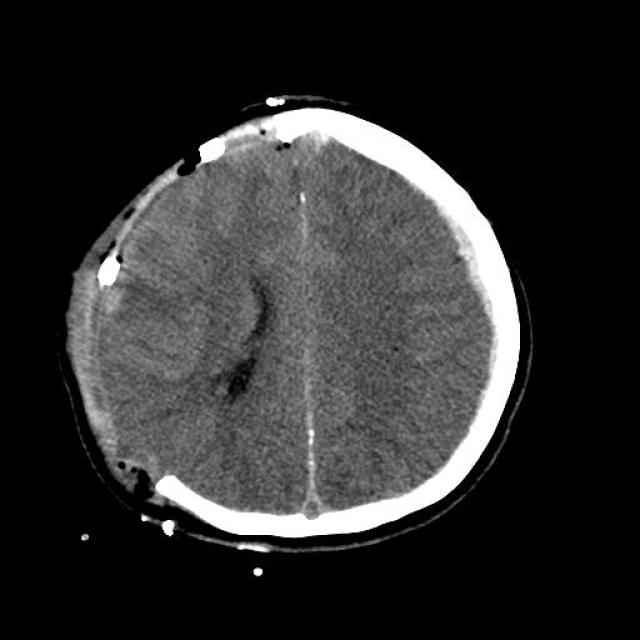Subdural: (416, 165, 526, 419)
